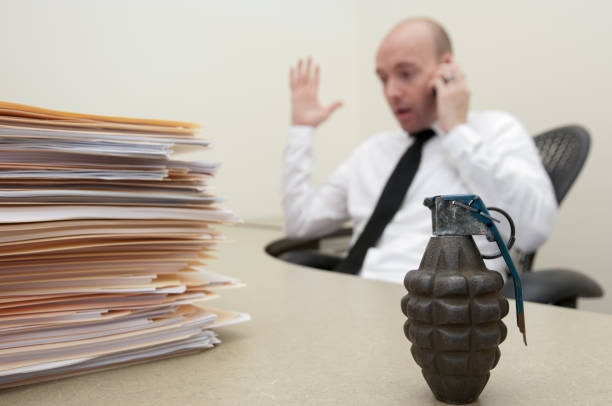e1: (400, 197, 533, 405)
